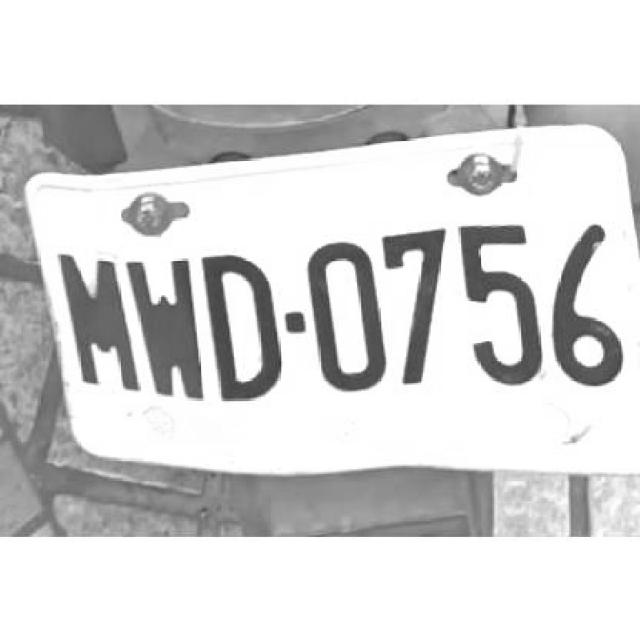-: (283, 308, 306, 332)
0: (302, 237, 386, 389)
5: (455, 218, 542, 384)
6: (549, 217, 624, 385)
7: (378, 223, 445, 383)
D: (198, 250, 281, 399)
M: (53, 247, 137, 386)
W: (120, 254, 203, 395)
